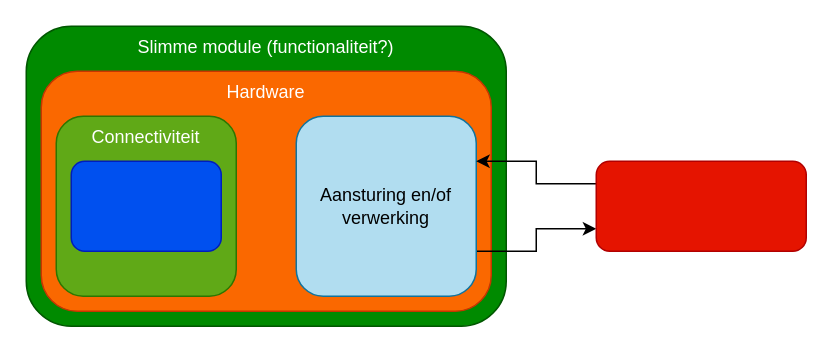
The diagram is 833 pixels wide and 353 high, and some of its shapes have lost their labels. The shapes that lost their labels are listed below. From the top down, each one's centre as x and y in pixels, then its label:
point (145, 205): Protocol
point (700, 205): Hardware component
